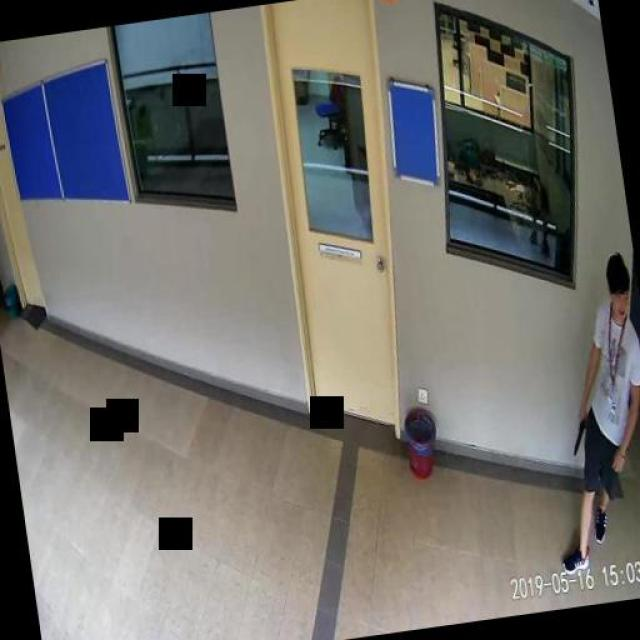gun: (566, 408, 589, 454)
